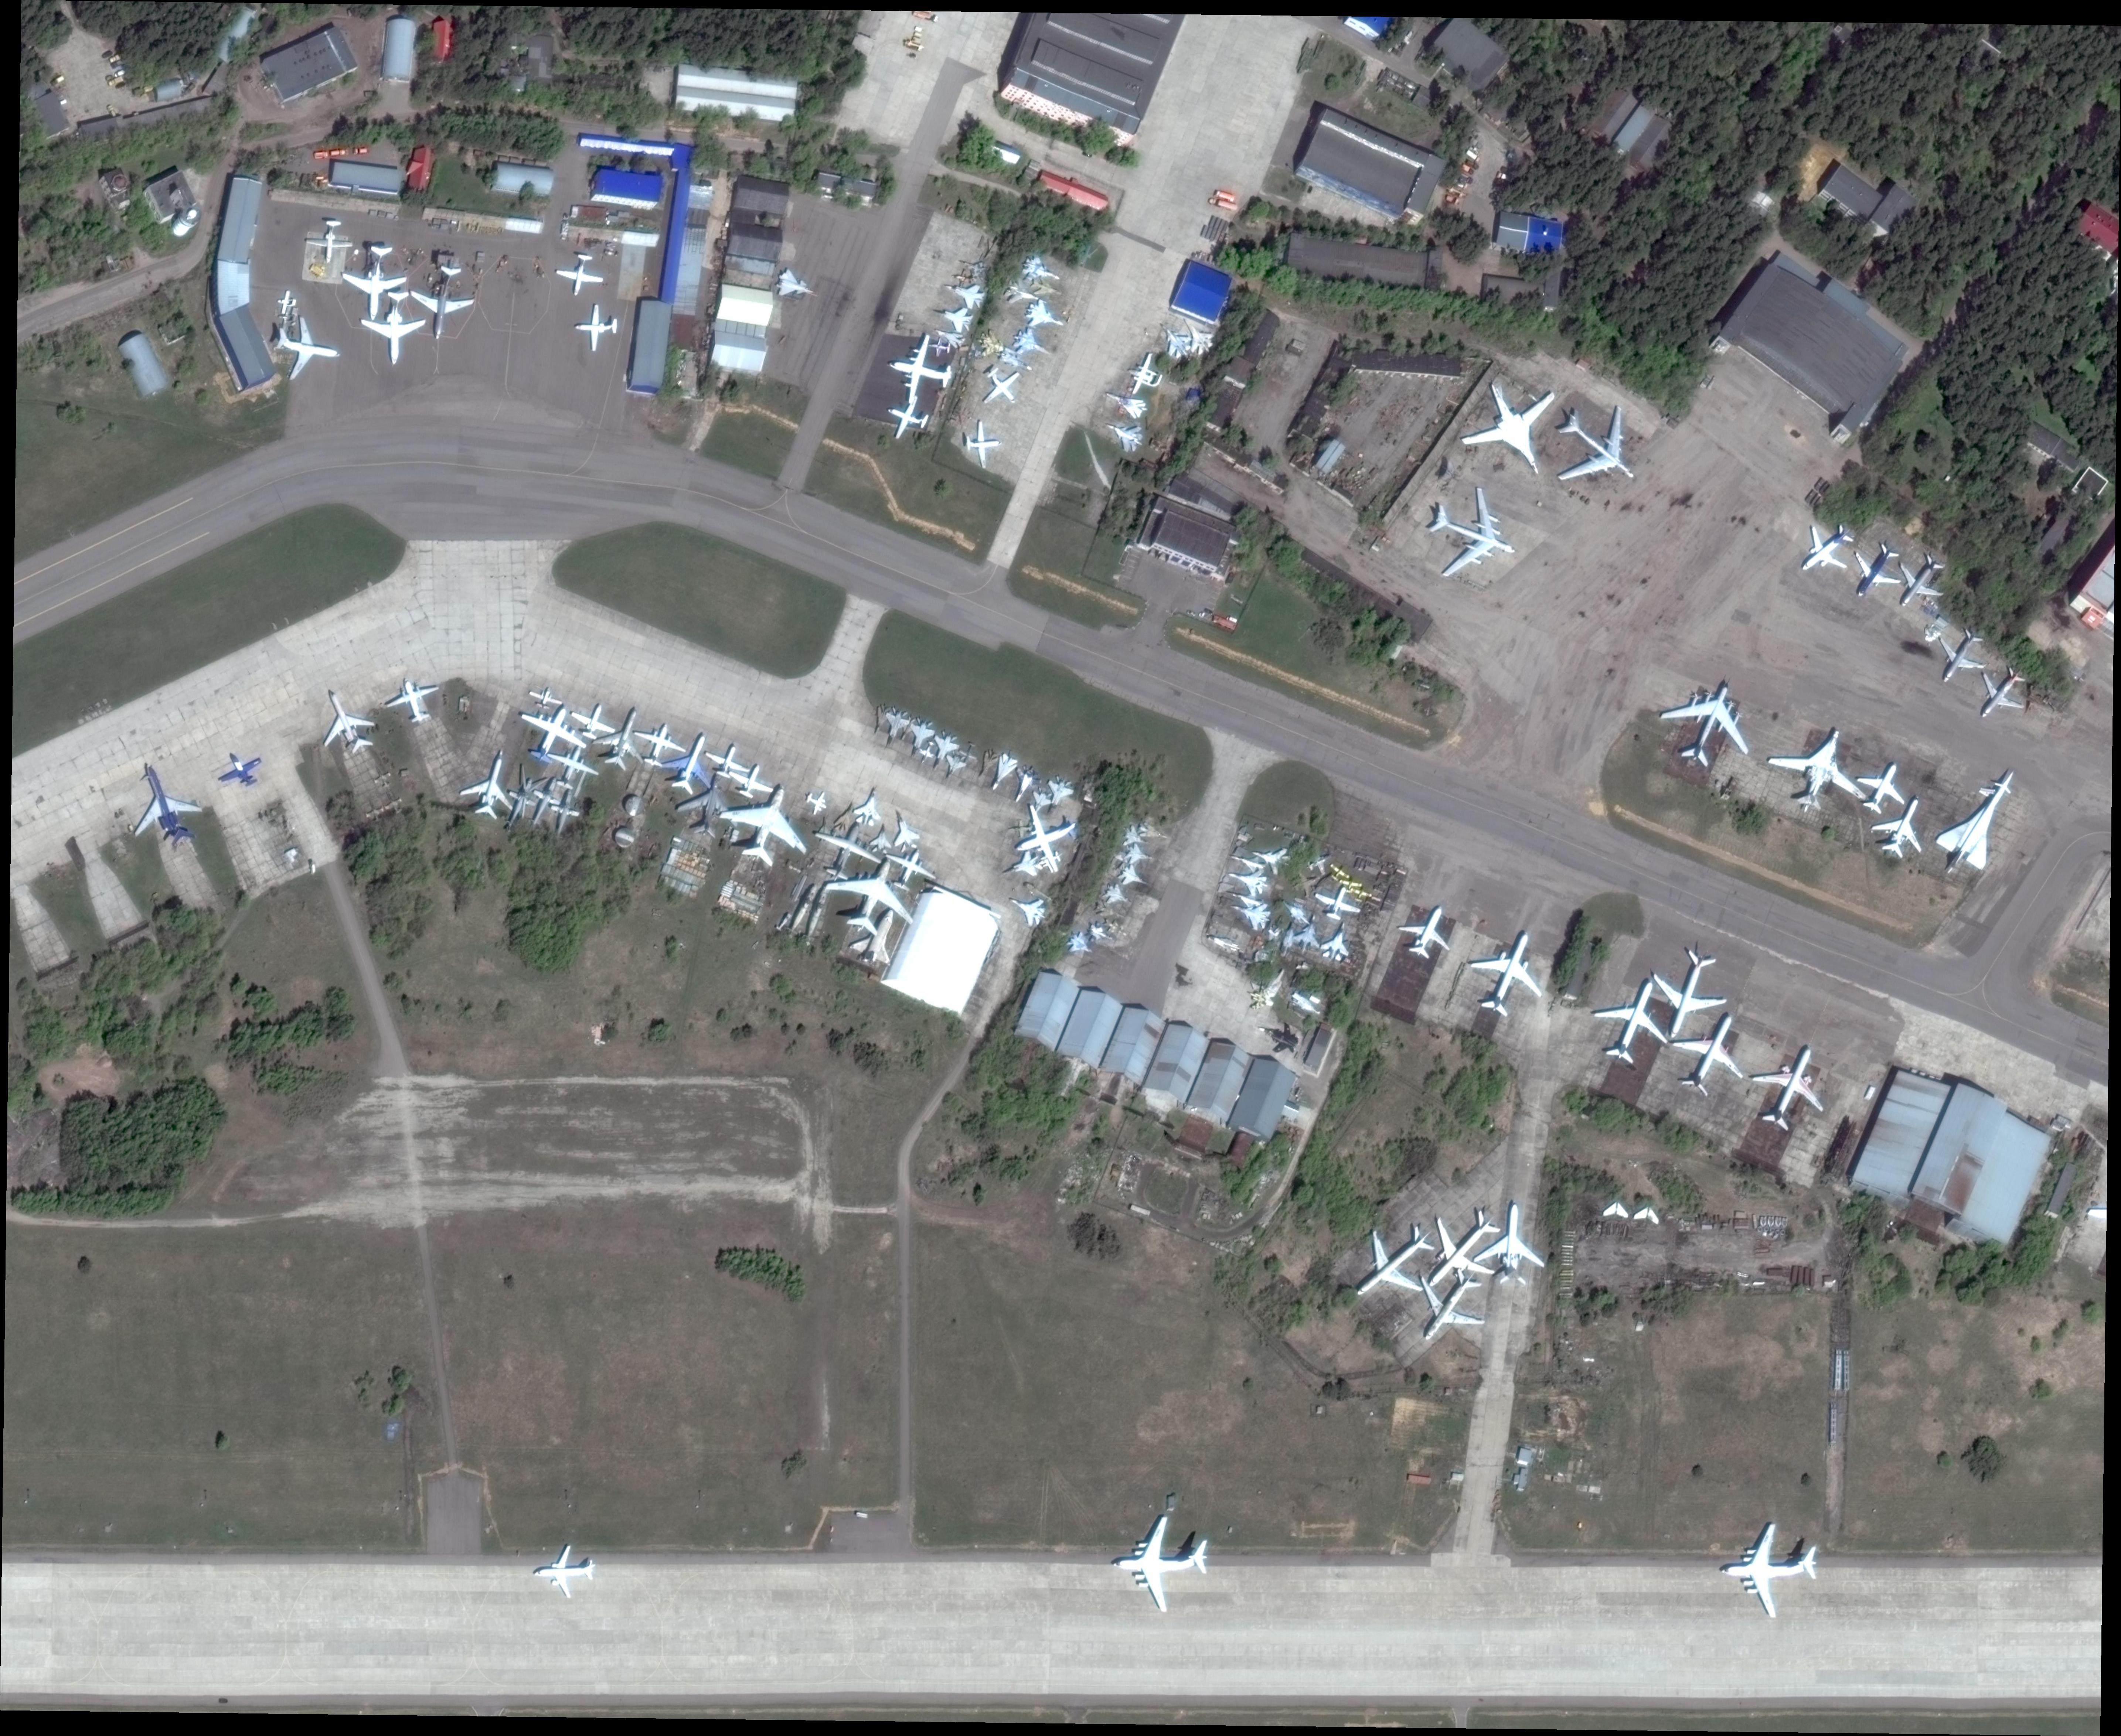plane: (1534, 387, 1663, 511), (1448, 373, 1578, 486), (1760, 710, 1881, 826), (1649, 662, 1765, 780), (1330, 1208, 1452, 1320), (1925, 757, 2033, 884), (1415, 475, 1529, 593), (1400, 1195, 1517, 1310), (712, 768, 824, 879), (1392, 1254, 1499, 1359), (1658, 1002, 1763, 1107), (1739, 1032, 1843, 1139), (1459, 914, 1557, 1026), (1580, 967, 1682, 1072), (1638, 940, 1737, 1048), (1719, 1521, 1822, 1616), (1112, 1514, 1210, 1609), (115, 755, 208, 852), (802, 808, 890, 891), (507, 692, 597, 773), (1006, 798, 1089, 879), (1783, 511, 1867, 588), (883, 326, 960, 408), (1473, 1201, 1547, 1285), (405, 259, 479, 343), (1920, 616, 1998, 694), (1961, 653, 2038, 731), (1880, 542, 1955, 620), (1837, 532, 1913, 609), (307, 681, 382, 759), (1864, 785, 1938, 864), (268, 308, 342, 387), (338, 241, 409, 322), (356, 289, 428, 366), (588, 695, 657, 776), (657, 722, 726, 801), (456, 741, 523, 822), (1846, 750, 1917, 824), (1392, 893, 1460, 967), (673, 771, 743, 842), (539, 734, 606, 794), (849, 903, 909, 970), (495, 761, 548, 835), (879, 836, 941, 900), (627, 715, 691, 773), (530, 1544, 597, 1595), (972, 359, 1032, 416), (381, 674, 446, 725), (881, 386, 934, 444), (211, 743, 270, 794), (551, 248, 608, 299), (565, 694, 622, 745), (1311, 877, 1367, 924), (699, 738, 754, 785), (724, 755, 779, 803), (523, 773, 565, 829), (303, 218, 354, 264), (571, 303, 618, 350), (1124, 349, 1168, 400), (1254, 1014, 1302, 1060), (782, 882, 819, 937), (1004, 886, 1050, 930), (772, 262, 819, 305), (1101, 414, 1149, 456), (964, 419, 1004, 468), (1175, 313, 1217, 359), (923, 727, 964, 775), (800, 887, 835, 942), (546, 787, 585, 836), (1156, 319, 1198, 363), (1022, 296, 1068, 336), (1318, 917, 1356, 965), (851, 783, 890, 829), (1018, 252, 1064, 291), (1009, 324, 1055, 363), (942, 275, 988, 313), (1228, 894, 1274, 933), (1004, 761, 1043, 805), (902, 713, 939, 759), (1249, 840, 1293, 877), (877, 704, 914, 748), (1103, 386, 1149, 421), (1290, 910, 1325, 954), (985, 752, 1020, 796), (1226, 863, 1270, 898), (935, 299, 976, 335), (525, 680, 567, 713), (999, 850, 1043, 882), (1041, 771, 1076, 808), (800, 783, 833, 822), (974, 327, 1013, 361), (1279, 893, 1312, 930), (890, 817, 923, 852), (1002, 278, 1038, 310), (1024, 783, 1055, 817), (999, 347, 1034, 377), (1099, 880, 1134, 910), (1064, 928, 1096, 960), (1228, 849, 1268, 873), (957, 254, 992, 282), (867, 701, 895, 736), (1115, 863, 1150, 891), (1302, 847, 1334, 877), (1290, 870, 1323, 898), (1029, 273, 1062, 301), (934, 324, 967, 352), (1290, 989, 1321, 1018), (1277, 919, 1300, 958), (974, 747, 1001, 780), (939, 752, 967, 782), (1092, 898, 1126, 923), (1207, 930, 1240, 954), (1136, 820, 1171, 843), (979, 232, 1006, 262), (1099, 916, 1129, 942), (1120, 824, 1150, 850), (833, 801, 858, 833), (868, 824, 895, 852), (955, 738, 981, 766), (1038, 849, 1064, 875), (1024, 880, 1053, 903), (1124, 843, 1154, 866), (1325, 859, 1351, 884), (381, 791, 407, 815), (370, 766, 396, 789), (916, 738, 939, 764), (1087, 921, 1113, 944), (897, 715, 918, 743), (361, 799, 386, 822), (1348, 882, 1372, 905), (928, 335, 951, 357), (277, 289, 298, 313), (1339, 873, 1363, 893), (1008, 819, 1032, 838), (955, 269, 974, 289)
